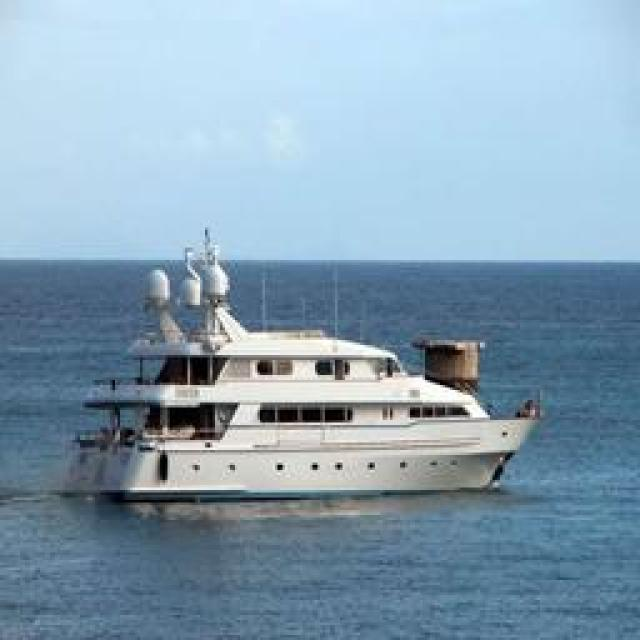CIV_Ship: (51, 230, 546, 502)
